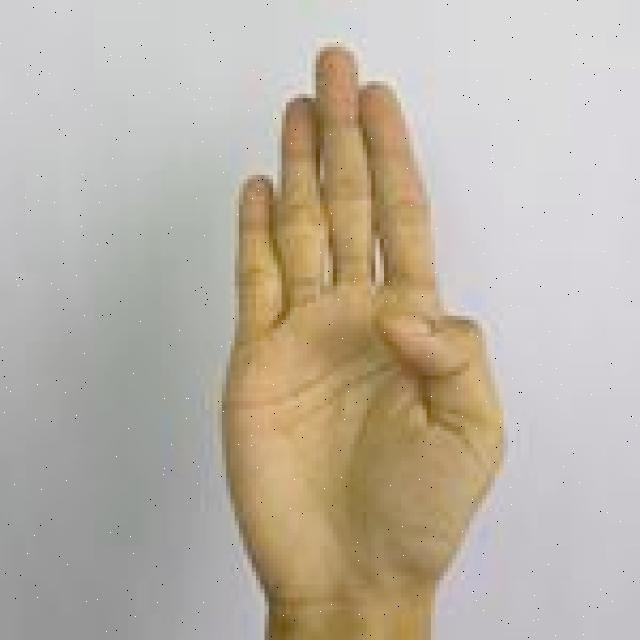B: (217, 41, 507, 640)
